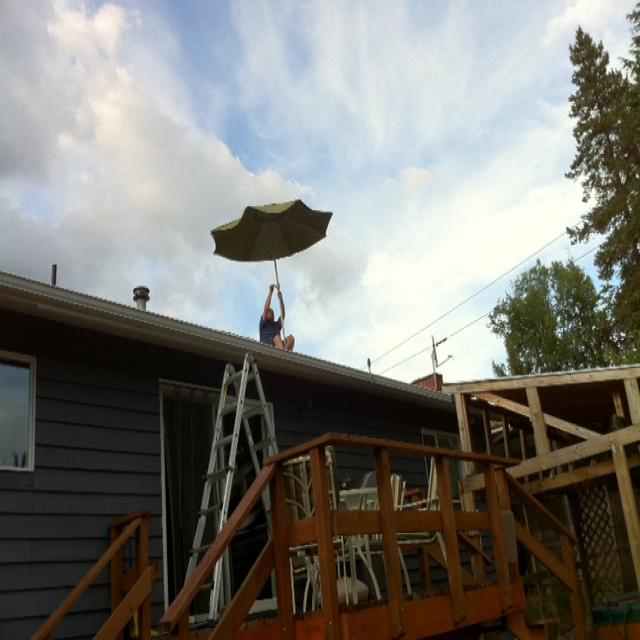chair: (384, 452, 462, 603)
dining table: (339, 488, 378, 510)
